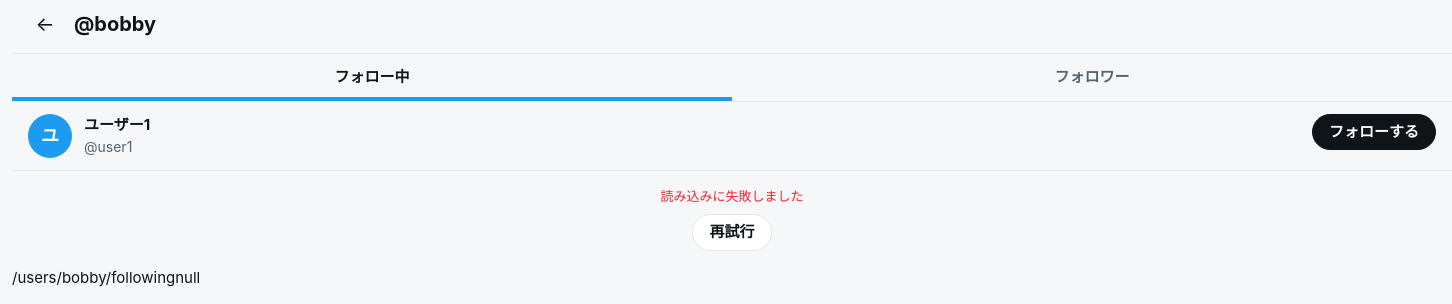
Test: FollowListPage：無限スクロール・フォロー › 続きの読み込みに失敗したら、再試行のボタンで読み込む
Click the button "再試行" at [732, 232], box left=692, top=214, right=772, bottom=250
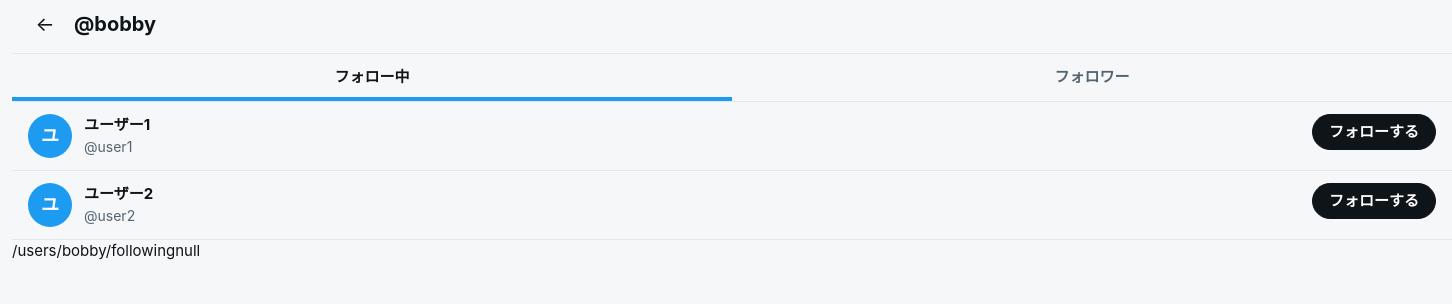
Check: the text "読み込みに失敗しました" is gone
